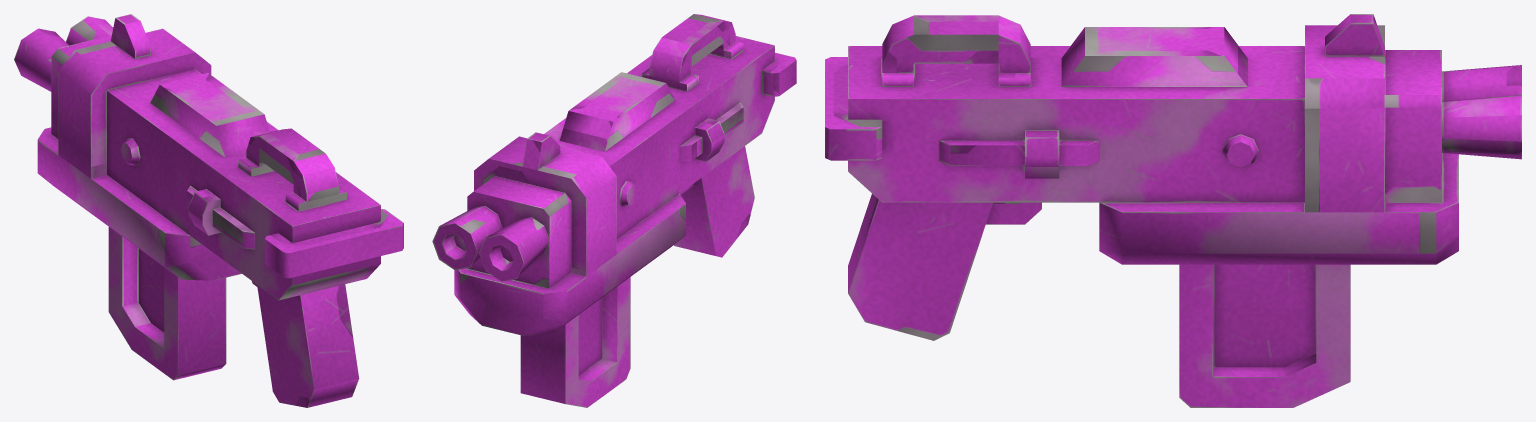
File: blaster-j.glb
The picture shows the model from 3 angles, left to right: view 1: azimuth 30°, elevation 25°; view 2: azimuth 150°, elevation 25°; view 3: azimuth 270°, elevation 25°; orthographic projection. The views are drawn at different scales.
Parts seen in each view (by area): view 1: blaster-j, magazine; view 2: blaster-j, magazine; view 3: blaster-j, magazine.
Boxes of the visible parts, x1,y1,x2,y2 form: blaster-j: [14, 14, 403, 407]; magazine: [108, 227, 226, 380]; blaster-j: [432, 14, 796, 335]; magazine: [520, 277, 630, 407]; blaster-j: [825, 14, 1521, 340]; magazine: [1179, 264, 1350, 407].
Size of the model in its own units: 0.155 by 0.3619 by 0.61.
Materials: 1 (1 with a texture image).
